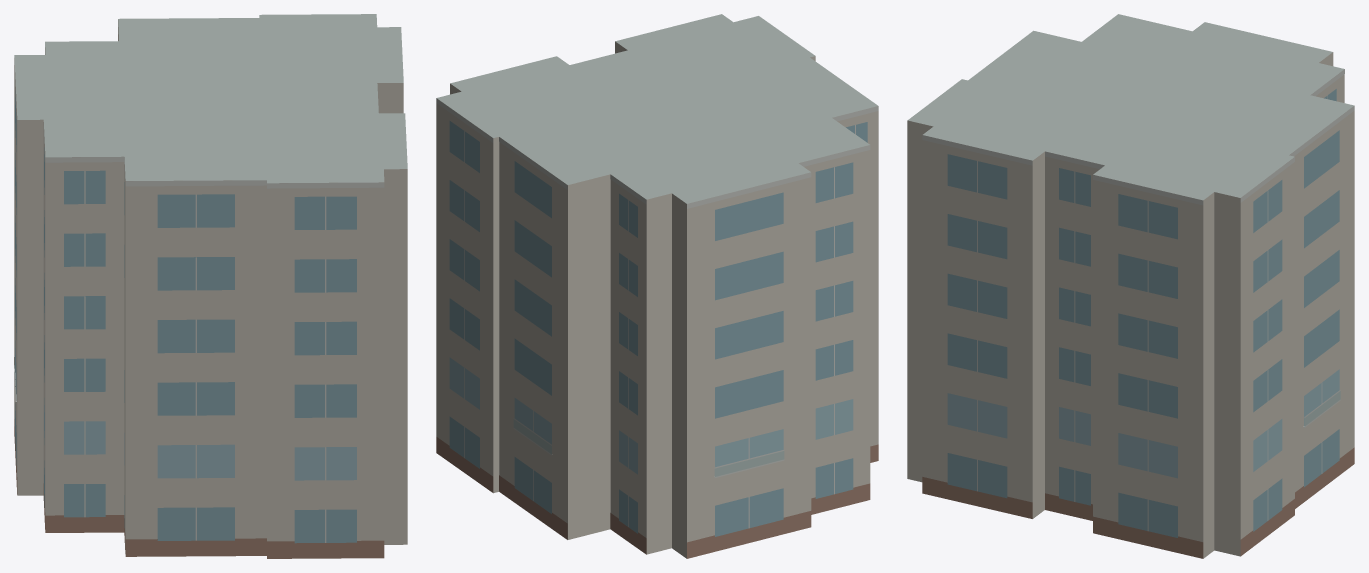
Rendered from survey-upis-32756781.glb.
3 views of the same model, side by side, from view 1: azimuth 30°, elevation 25°; view 2: azimuth 150°, elevation 25°; view 3: azimuth 270°, elevation 25° (orthographic). The views are drawn at different scales.
Visible parts, largest first — view 1: survey-upis-32756781.tmp; view 2: survey-upis-32756781.tmp; view 3: survey-upis-32756781.tmp.
Boxes of the visible parts, x1,y1,x2,y2 form: survey-upis-32756781.tmp: [14, 14, 407, 558]; survey-upis-32756781.tmp: [436, 14, 878, 558]; survey-upis-32756781.tmp: [907, 14, 1354, 558].
Bounding box in the file's own units: 19.3 × 17.3 × 19.56.
